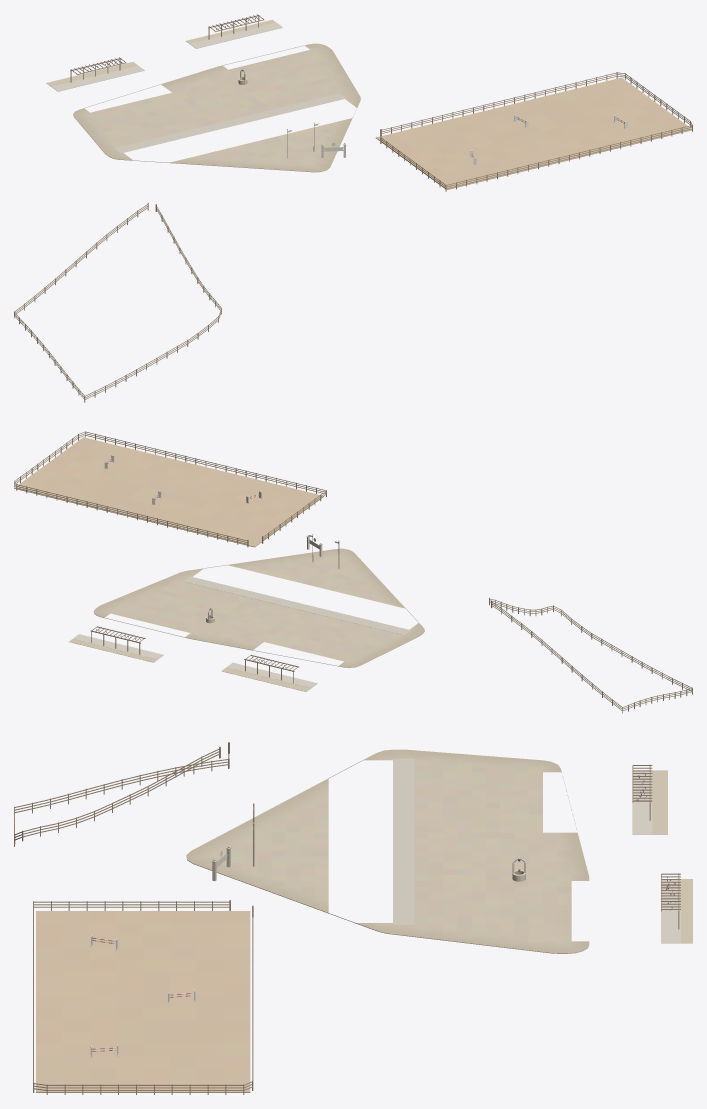
The model's file is SM_BM_BE_6_Grounds.glb.
3 views of the same model, one above another, from view 1: azimuth 30°, elevation 25°; view 2: azimuth 150°, elevation 25°; view 3: azimuth 270°, elevation 25° (orthographic). The views are drawn at different scales.
Visible parts, largest first — view 1: SM_BM_BE_6_Grounds; view 2: SM_BM_BE_6_Grounds; view 3: SM_BM_BE_6_Grounds.
Part boxes in pixels (x1,y1,x2,y2): SM_BM_BE_6_Grounds: (14,14,692,402); SM_BM_BE_6_Grounds: (14,431,692,713); SM_BM_BE_6_Grounds: (14,742,692,1094).
Size of the model in its own units: 151 by 34.19 by 95.09.
